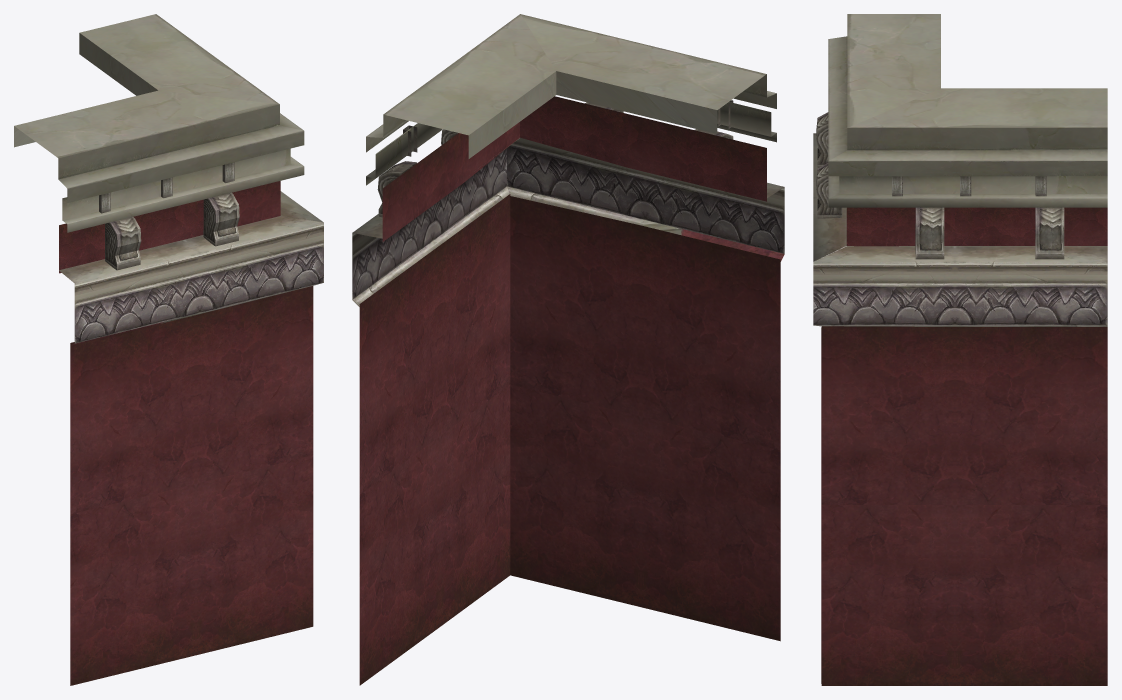
File: cj_xinshou_qiang01_54_00_3470out.fbx
The picture shows the model from 3 angles, left to right: view 1: azimuth 30°, elevation 25°; view 2: azimuth 150°, elevation 25°; view 3: azimuth 270°, elevation 25°; orthographic projection. The views are drawn at different scales.
Parts seen in each view (by area): view 1: cj_xinshou_qiang01; view 2: cj_xinshou_qiang01; view 3: cj_xinshou_qiang01.
Part boxes in pixels (x1=…): cj_xinshou_qiang01: x1=14, y1=14, x2=323, y2=685; cj_xinshou_qiang01: x1=352, y1=14, x2=784, y2=685; cj_xinshou_qiang01: x1=813, y1=14, x2=1107, y2=685.
Size of the model in its own units: 2.48 by 4.91 by 2.4.
